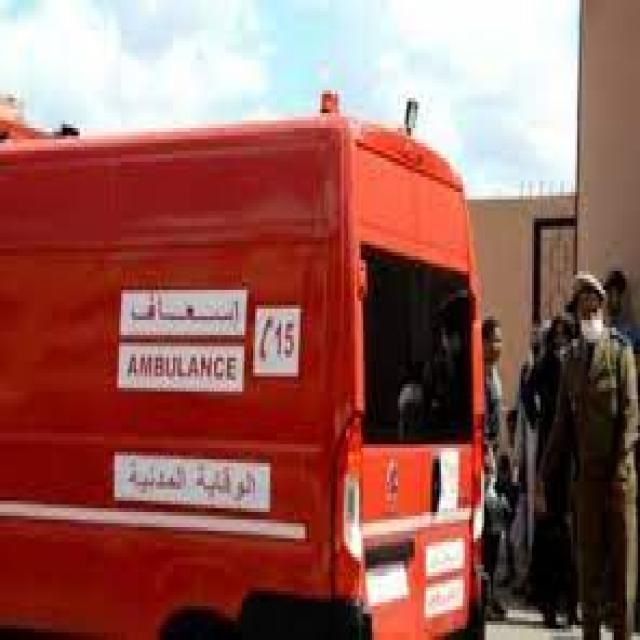ambulance: (1, 97, 488, 638)
